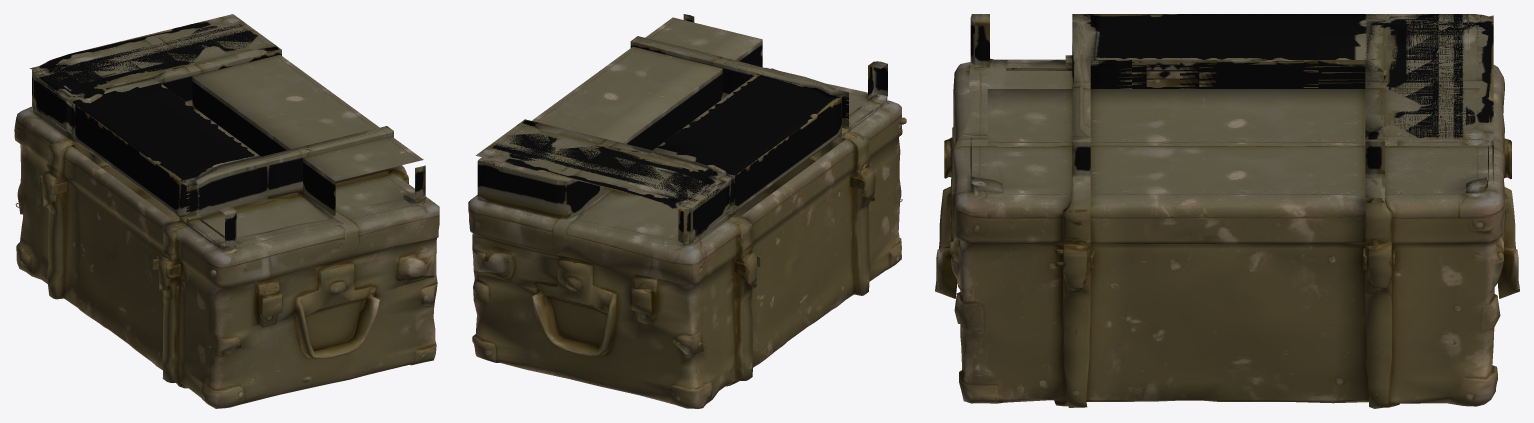
Rendered from crate_military.glb.
3 renders of one model, left to right at view 1: azimuth 30°, elevation 25°; view 2: azimuth 150°, elevation 25°; view 3: azimuth 270°, elevation 25°, orthographic. The views are drawn at different scales.
Parts seen in each view (by area): view 1: tripo_node_ae05ee3c-9343-4113-bb8f-1823af353218; view 2: tripo_node_ae05ee3c-9343-4113-bb8f-1823af353218; view 3: tripo_node_ae05ee3c-9343-4113-bb8f-1823af353218.
Part boxes in pixels (x1=…): tripo_node_ae05ee3c-9343-4113-bb8f-1823af353218: x1=14, y1=14, x2=439, y2=408; tripo_node_ae05ee3c-9343-4113-bb8f-1823af353218: x1=468, y1=14, x2=906, y2=408; tripo_node_ae05ee3c-9343-4113-bb8f-1823af353218: x1=935, y1=14, x2=1519, y2=408.
Size of the model in its own units: 0.6595 by 0.5127 by 1.
1 material, 1 textured.
